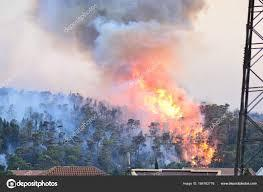fire: (113, 52, 212, 163)
yanwu: (25, 0, 211, 97)
